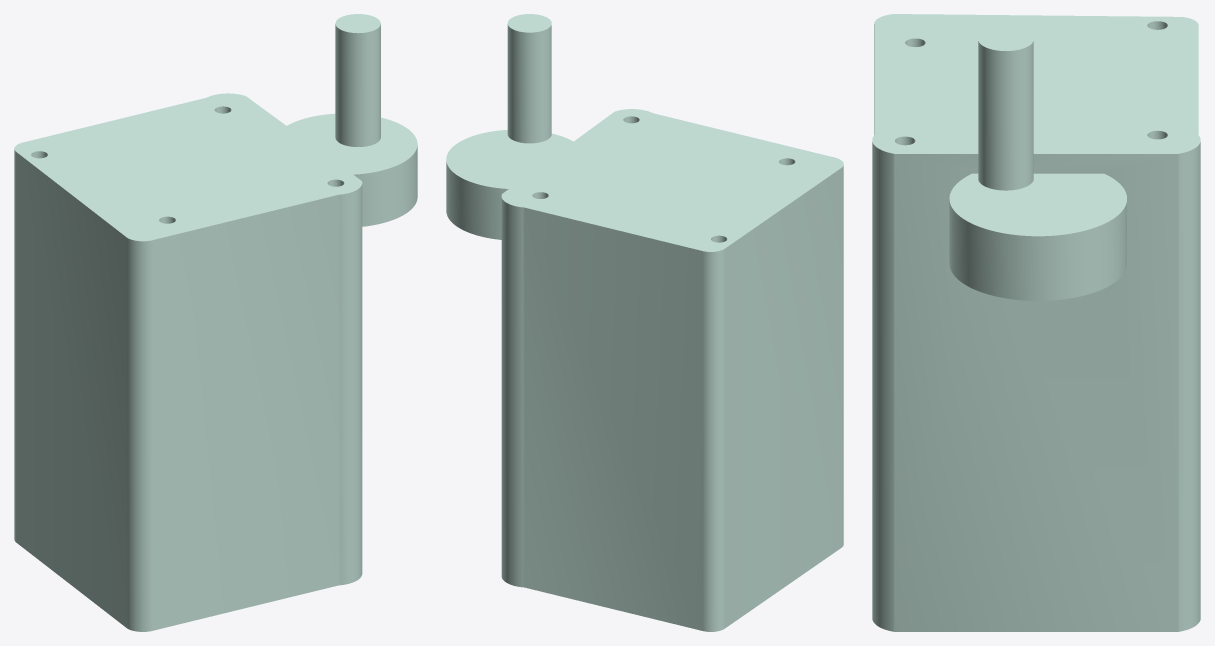
The picture shows the model from 3 angles, left to right: view 1: azimuth 30°, elevation 25°; view 2: azimuth 150°, elevation 25°; view 3: azimuth 270°, elevation 25°; orthographic projection. The views are drawn at different scales.
Visible parts, largest first — view 1: Renderer Node; view 2: Renderer Node; view 3: Renderer Node.
Boxes of the visible parts, x1,y1,x2,y2 form: Renderer Node: (14, 14, 417, 631); Renderer Node: (446, 14, 843, 631); Renderer Node: (872, 14, 1200, 631).
Bounding box in the file's own units: 0.6807 × 0.9688 × 0.467.
